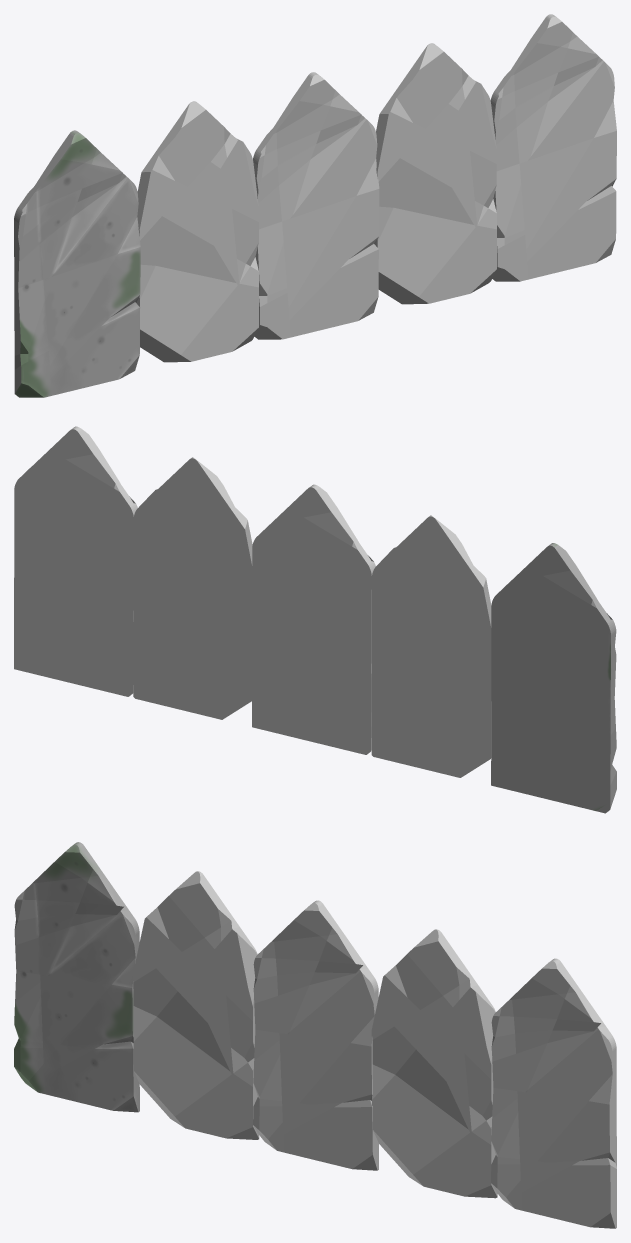
The model's file is Plaque gravure boss.fbx.
3 renders of one model, top to bottom at view 1: azimuth 30°, elevation 25°; view 2: azimuth 150°, elevation 25°; view 3: azimuth 330°, elevation 25°, orthographic.
Parts seen in each view (by area): view 1: Cercle, Cercle.002, Cercle.004, Cercle.001, Cercle.003; view 2: Cercle, Cercle.004, Cercle.002, Cercle.001, Cercle.003; view 3: Cercle.004, Cercle, Cercle.002, Cercle.001, Cercle.003.
Part boxes in pixels (left/top/right/bottom): Cercle: left=14, top=130, right=140, bottom=397; Cercle.002: left=253, top=72, right=379, bottom=339; Cercle.004: left=490, top=14, right=616, bottom=281; Cercle.001: left=136, top=101, right=258, bottom=362; Cercle.003: left=375, top=43, right=496, bottom=304; Cercle: left=491, top=543, right=616, bottom=813; Cercle.004: left=14, top=426, right=137, bottom=696; Cercle.002: left=252, top=484, right=375, bottom=754; Cercle.001: left=371, top=515, right=491, bottom=777; Cercle.003: left=133, top=457, right=253, bottom=719; Cercle.004: left=491, top=958, right=616, bottom=1228; Cercle: left=14, top=842, right=139, bottom=1112; Cercle.002: left=253, top=900, right=378, bottom=1170; Cercle.001: left=133, top=871, right=259, bottom=1139; Cercle.003: left=371, top=929, right=497, bottom=1198.
Size of the model in its own units: 949 by 387 by 19.94.
